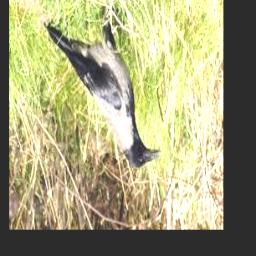Crow: (44, 7, 161, 168)
